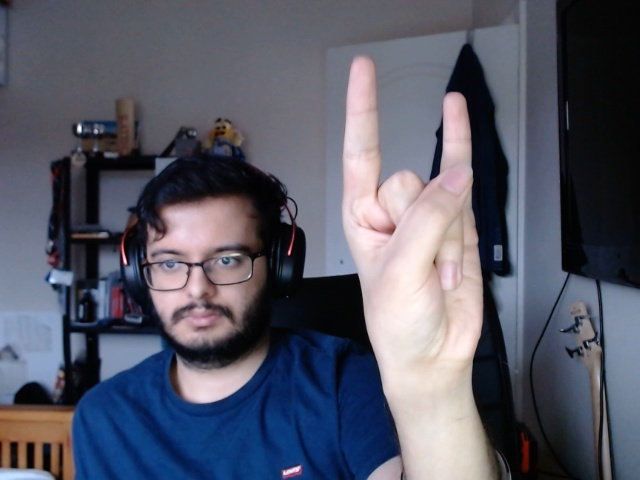Rock on: (325, 49, 492, 403)
